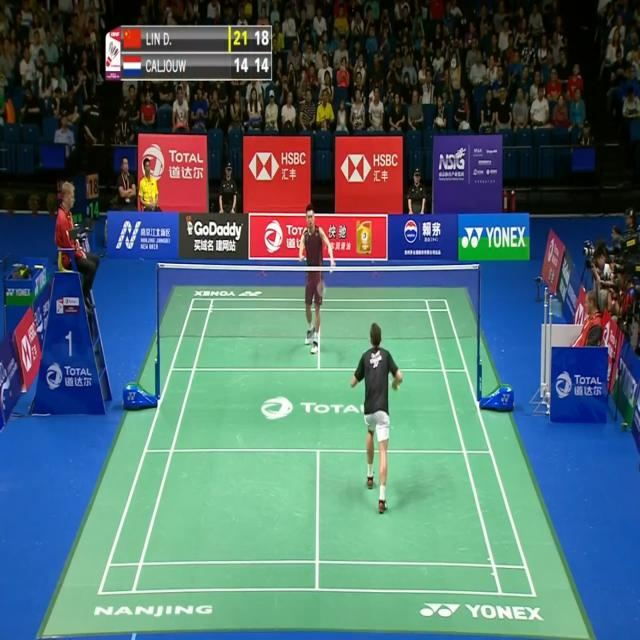Player1: (350, 322, 402, 517)
Player2: (294, 202, 338, 357)
